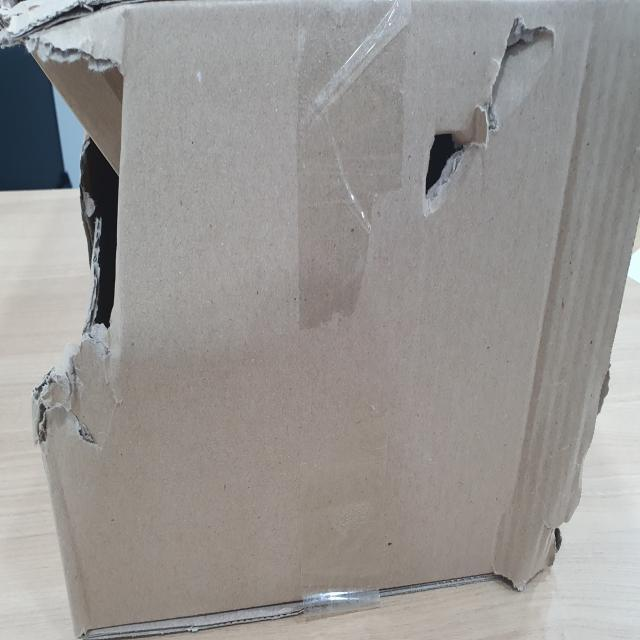hole: (44, 42, 158, 406), (492, 7, 556, 121), (420, 96, 476, 220)
